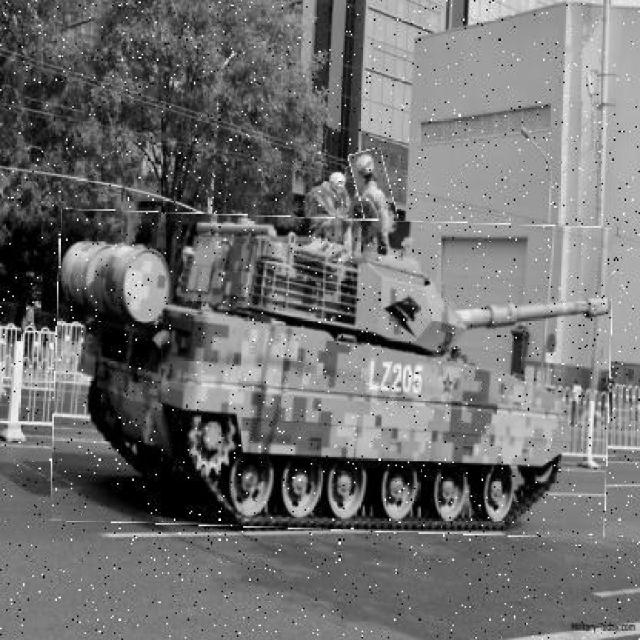Person: (355, 150, 399, 249)
Tank: (55, 215, 612, 535)
